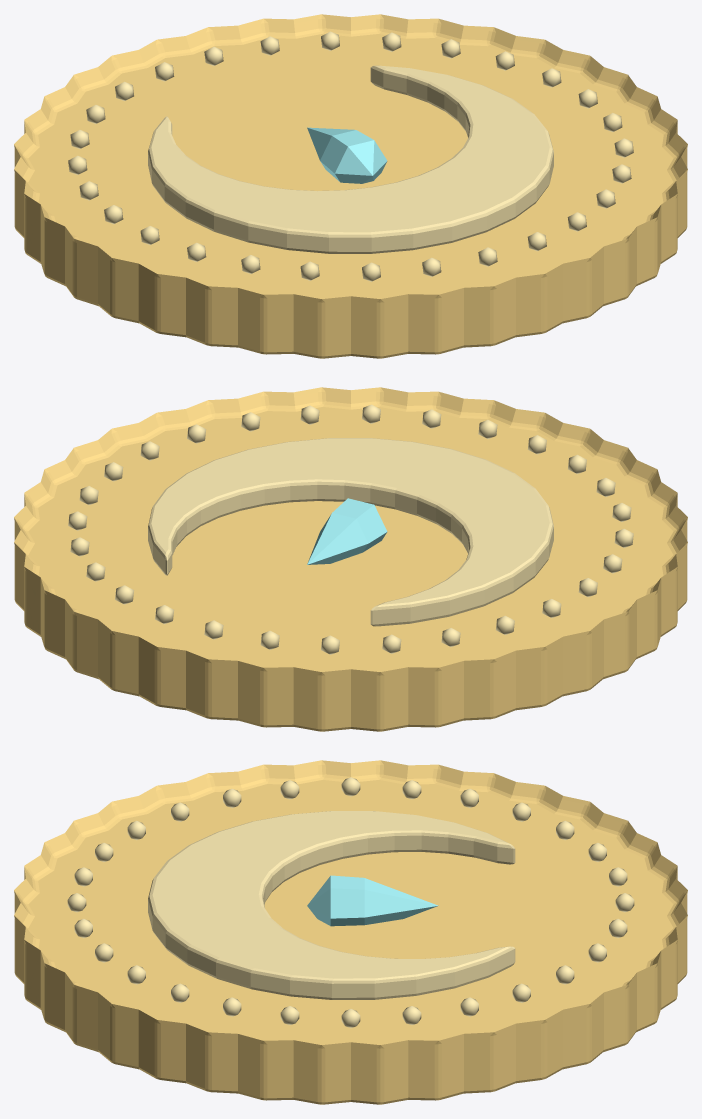
The model's file is SH10_Pickup_Coin_Gold.fbx.
3 renders of one model, top to bottom at view 1: azimuth 30°, elevation 25°; view 2: azimuth 150°, elevation 25°; view 3: azimuth 270°, elevation 25°, orthographic.
Parts seen in each view (by area): view 1: Coin_Gold_Body, Coin_Gold_Crescent1, Coin_Gold_Beads1, Coin_Gold_Flame1; view 2: Coin_Gold_Body, Coin_Gold_Crescent1, Coin_Gold_Beads1, Coin_Gold_Flame1; view 3: Coin_Gold_Body, Coin_Gold_Crescent1, Coin_Gold_Beads1, Coin_Gold_Flame1.
Boxes of the visible parts, x1,y1,x2,y2 form: Coin_Gold_Body: [14, 14, 687, 358]; Coin_Gold_Crescent1: [148, 65, 553, 253]; Coin_Gold_Beads1: [68, 31, 633, 281]; Coin_Gold_Flame1: [307, 127, 387, 183]; Coin_Gold_Body: [14, 387, 687, 731]; Coin_Gold_Crescent1: [148, 438, 553, 626]; Coin_Gold_Beads1: [68, 404, 633, 654]; Coin_Gold_Flame1: [307, 498, 387, 564]; Coin_Gold_Body: [14, 760, 687, 1104]; Coin_Gold_Crescent1: [148, 811, 515, 999]; Coin_Gold_Beads1: [67, 777, 634, 1028]; Coin_Gold_Flame1: [307, 875, 438, 926].
Size of the model in its own units: 0.9962 by 0.1679 by 0.9962.
